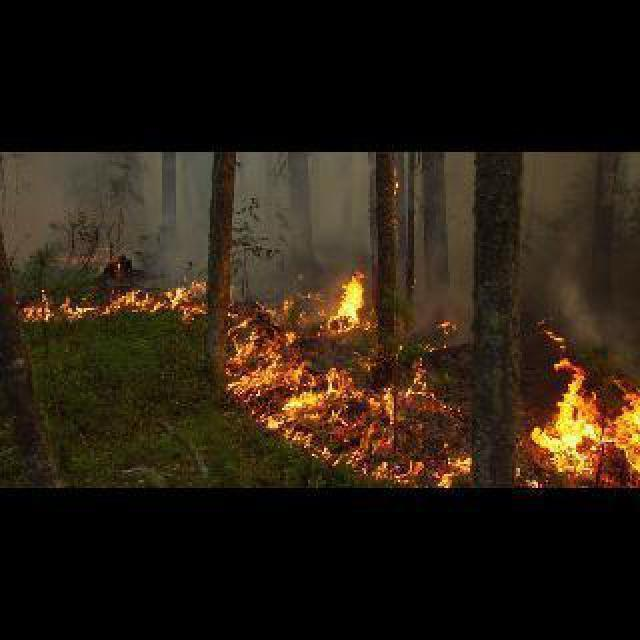Fire: (224, 274, 638, 482), (12, 250, 206, 326)
